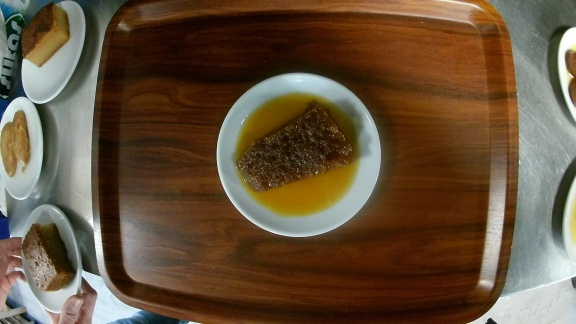ekmekkadayifi: (215, 71, 383, 238)
